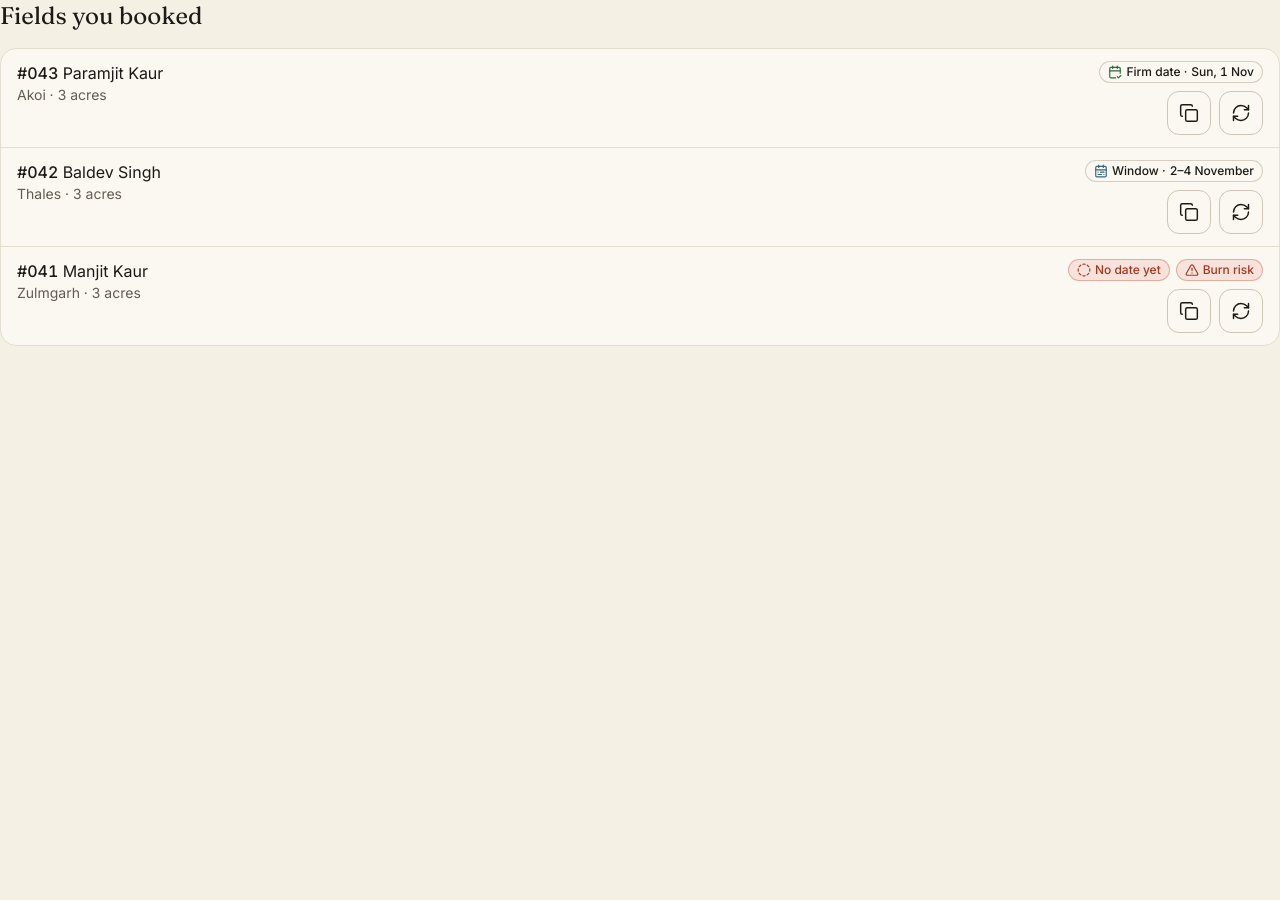
it: BookedList › keeps the dialog open with the reason when a new link cannot be made
Click the button named "New link for Manjit Kaur" at (1241, 311), box left=1219, top=289, right=1263, bottom=333
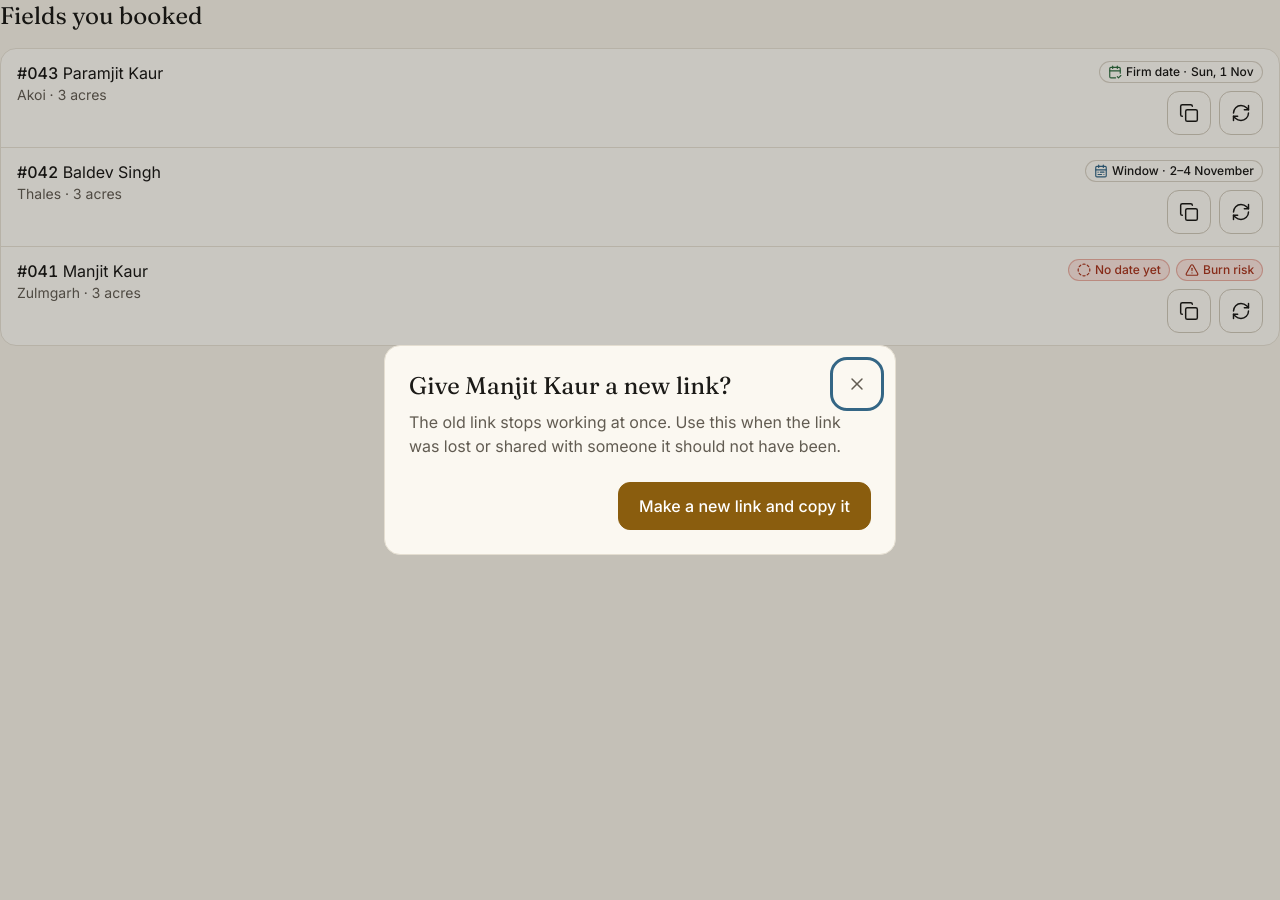
Click the button "Make a new link and copy it" at (744, 506), box left=618, top=482, right=871, bottom=530
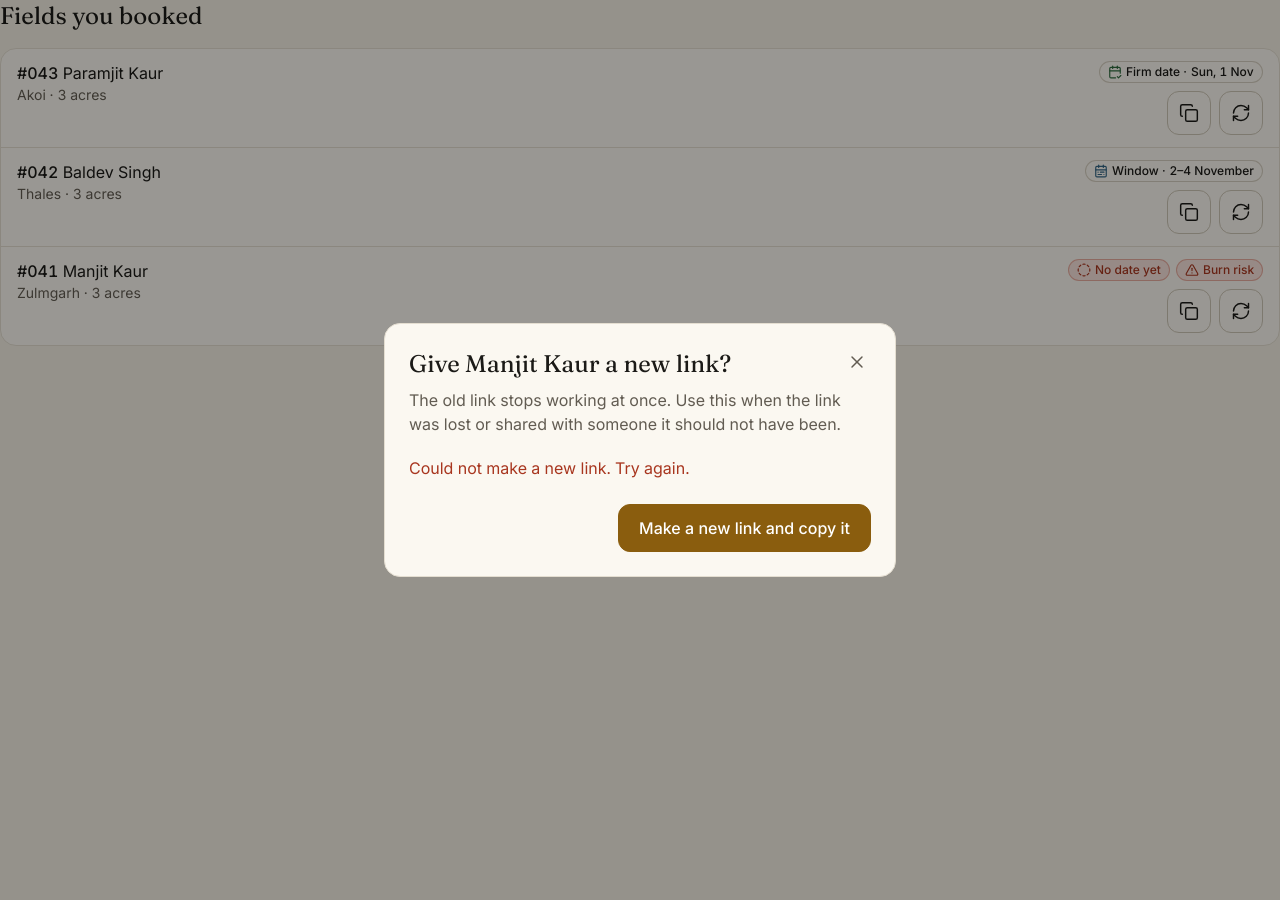
Expected: the message reads "Could not make a new link. Try again.", left=409, top=458, right=690, bottom=478
